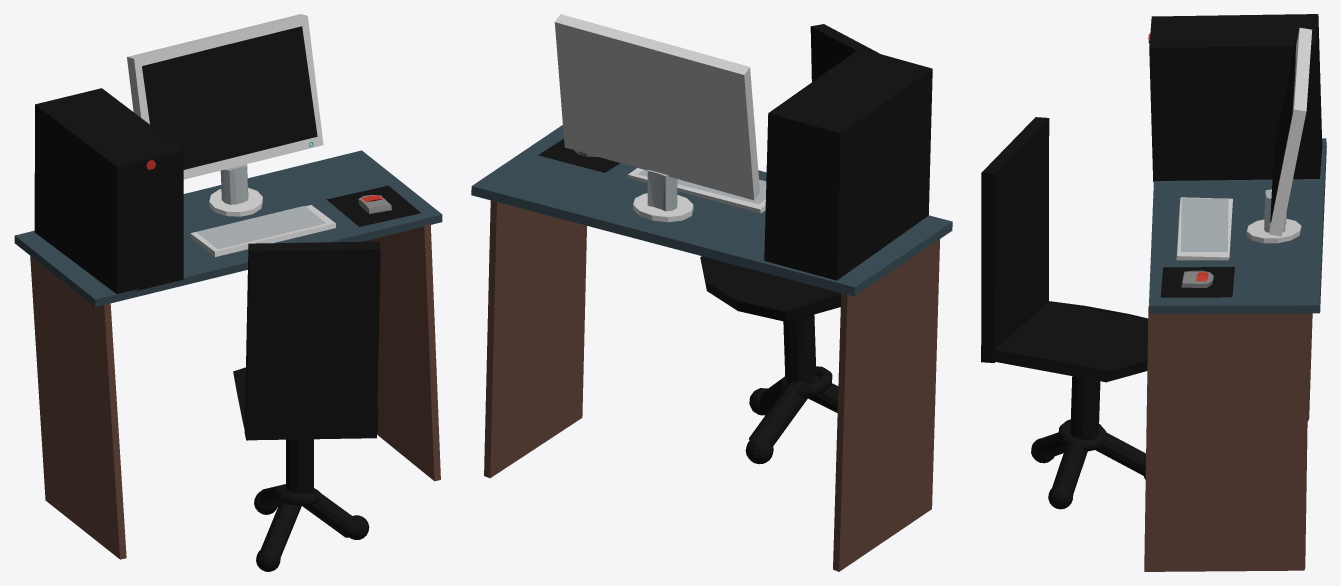
The picture shows the model from 3 angles, left to right: view 1: azimuth 30°, elevation 25°; view 2: azimuth 150°, elevation 25°; view 3: azimuth 270°, elevation 25°; orthographic projection. The views are drawn at different scales.
Visible parts, largest first — view 1: node_MeshObject-1603777472-PolyPaper23; view 2: node_MeshObject-1603777472-PolyPaper23; view 3: node_MeshObject-1603777472-PolyPaper23.
Part boxes in pixels (bbox=[...]): node_MeshObject-1603777472-PolyPaper23: bbox=[14, 14, 442, 571]; node_MeshObject-1603777472-PolyPaper23: bbox=[471, 14, 952, 571]; node_MeshObject-1603777472-PolyPaper23: bbox=[981, 14, 1326, 571].
Size of the model in its own units: 1.48 by 1.74 by 1.25.
